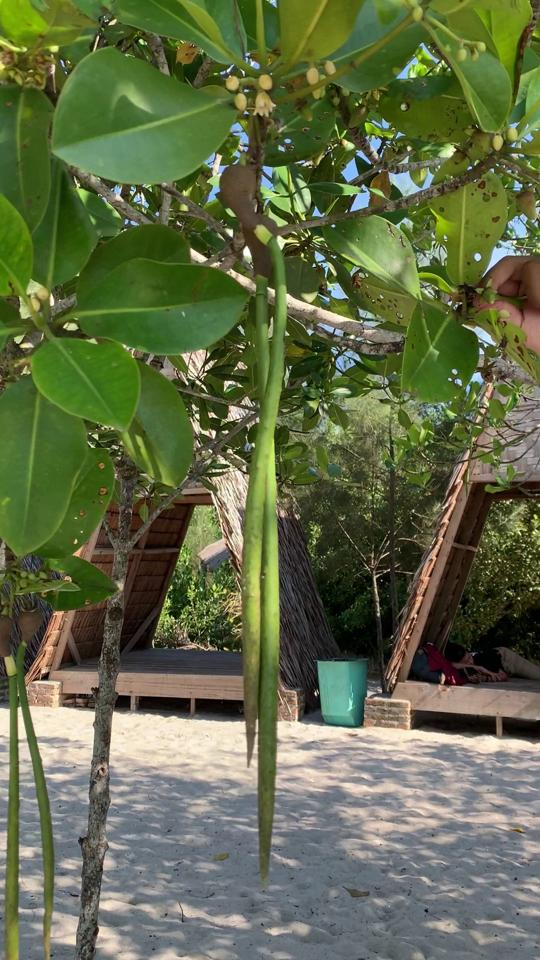setengah matang: (212, 153, 301, 766)
